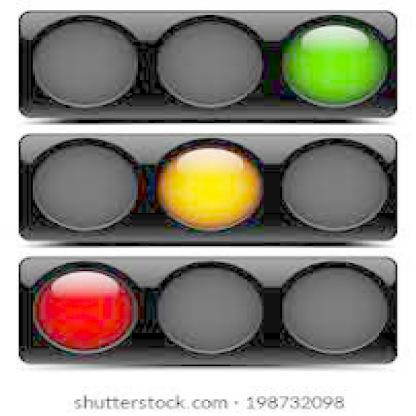traffic-light: (22, 9, 396, 122), (20, 135, 394, 238), (21, 260, 391, 362)
